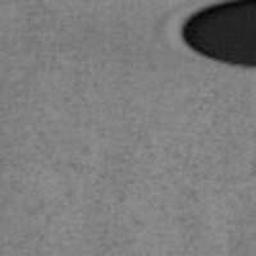Punching: (182, 0, 256, 69)
